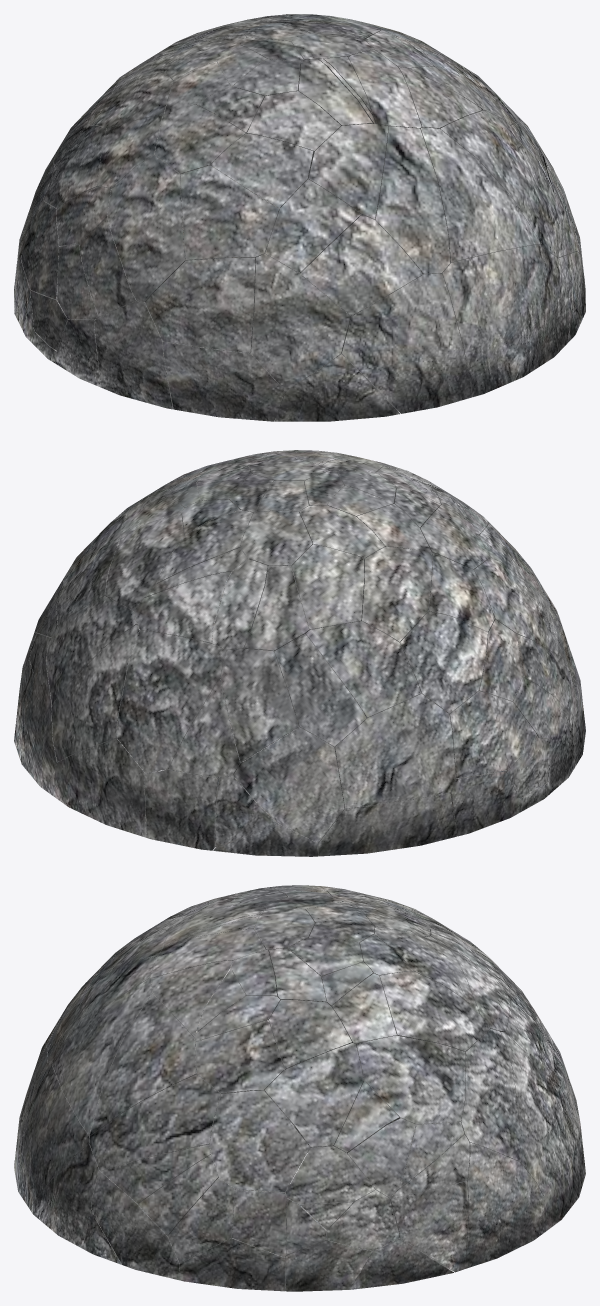
The model's file is sphereanim.fbx.
3 renders of one model, top to bottom at view 1: azimuth 30°, elevation 25°; view 2: azimuth 150°, elevation 25°; view 3: azimuth 270°, elevation 25°, orthographic.
Parts seen in each view (by area): view 1: Exploded_cell.057, Exploded_cell.098, Exploded_cell.018, Exploded_cell.026, Exploded_cell.069, Exploded_cell.070, Exploded_cell.027, Exploded_cell.088, Exploded_cell, Exploded_cell.031, Exploded_cell.015, Exploded_cell.068 (+43 smaller); view 2: Exploded_cell.024, Exploded_cell.092, Exploded_cell.038, Exploded_cell.085, Exploded_cell.081, Exploded_cell.009, Exploded_cell.053, Exploded_cell.049, Exploded_cell.086, Exploded_cell.003, Exploded_cell.080, Exploded_cell.077 (+46 smaller); view 3: Exploded_cell.001, Exploded_cell.021, Exploded_cell.046, Exploded_cell.054, Exploded_cell.074, Exploded_cell.007, Exploded_cell.070, Exploded_cell.062, Exploded_cell.098, Exploded_cell.016, Exploded_cell.014, Exploded_cell.064 (+49 smaller).
Boxes of the visible parts, <box> form: Exploded_cell.057: <box>341,273,472,413</box>; Exploded_cell.098: <box>440,244,544,396</box>; Exploded_cell.018: <box>250,254,350,390</box>; Exploded_cell.026: <box>145,257,255,352</box>; Exploded_cell.069: <box>107,155,186,301</box>; Exploded_cell.070: <box>420,127,540,263</box>; Exploded_cell.027: <box>375,126,450,274</box>; Exploded_cell.088: <box>163,341,285,421</box>; Exploded_cell: <box>180,165,279,260</box>; Exploded_cell.031: <box>300,215,422,315</box>; Exploded_cell.015: <box>95,301,173,409</box>; Exploded_cell.068: <box>307,123,388,219</box>; Exploded_cell.024: <box>334,693,455,808</box>; Exploded_cell.092: <box>117,630,226,773</box>; Exploded_cell.038: <box>233,727,344,842</box>; Exploded_cell.085: <box>46,738,158,837</box>; Exploded_cell.081: <box>305,621,421,717</box>; Exploded_cell.009: <box>51,624,140,761</box>; Exploded_cell.053: <box>399,611,487,713</box>; Exploded_cell.049: <box>220,648,298,762</box>; Exploded_cell.086: <box>318,793,456,856</box>; Exploded_cell.003: <box>274,634,366,746</box>; Exploded_cell.080: <box>449,691,537,778</box>; Exploded_cell.077: <box>361,546,432,642</box>; Exploded_cell.001: <box>210,1090,309,1191</box>; Exploded_cell.021: <box>356,1035,465,1123</box>; Exploded_cell.046: <box>89,1074,220,1170</box>; Exploded_cell.054: <box>464,1142,543,1268</box>; Exploded_cell.074: <box>89,993,200,1135</box>; Exploded_cell.007: <box>264,1043,363,1152</box>; Exploded_cell.070: <box>52,977,156,1135</box>; Exploded_cell.062: <box>459,1028,520,1161</box>; Exploded_cell.098: <box>17,1062,89,1208</box>; Exploded_cell.016: <box>380,971,489,1051</box>; Exploded_cell.014: <box>390,1180,468,1272</box>; Exploded_cell.064: <box>91,1170,180,1280</box>.
Size of the model in its own units: 200 by 101 by 200.
